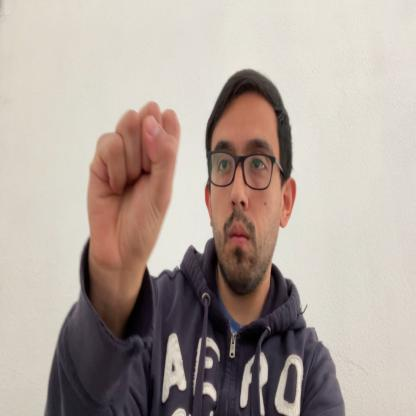S: (88, 99, 180, 269)
